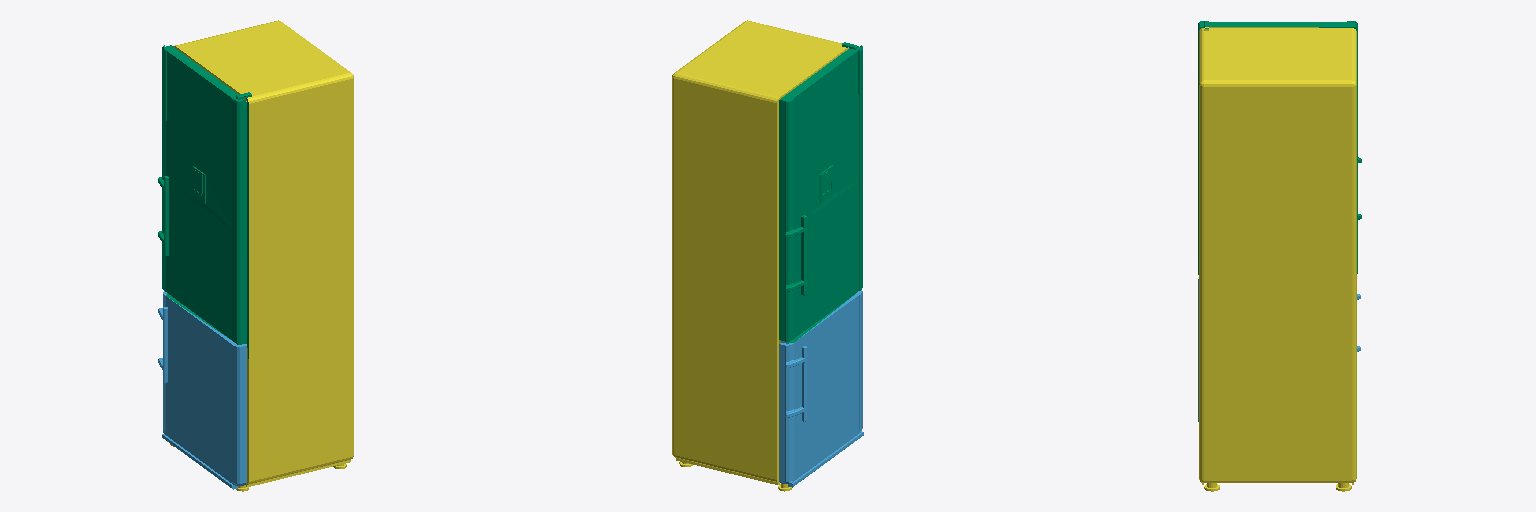
URDF robot description (partnet_37e4e31465ab231e657fedbea3770934):
<?xml version="1.0" ?>
<robot name="partnet_37e4e31465ab231e657fedbea3770934">
	<link name="base"/>
	<link name="link_0">
		<visual name="door_frame-10">
			<origin xyz="-0.31494556799530987 0 -0.27021547079086305"/>
			<geometry>
				<mesh filename="package://objects_description/10347/textured_objs/new-2.obj"/>
			</geometry>
		</visual>
		<visual name="door_frame-10">
			<origin xyz="-0.31494556799530987 0 -0.27021547079086305"/>10347
			<geometry>
				<mesh filename="package://objects_description/10347/textured_objs/new-5.obj"/>
			</geometry>
		</visual>
		<visual name="handle-11">
			<origin xyz="-0.31494556799530987 0 -0.27021547079086305"/>
			<geometry>
				<mesh filename="package://objects_description/10347/textured_objs/new-0.obj"/>
			</geometry>
		</visual>
		<collision>
			<origin xyz="-0.31494556799530987 0 -0.27021547079086305"/>
			<geometry>
				<mesh filename="package://objects_description/10347/textured_objs/new-2.obj"/>
			</geometry>
		</collision>
		<collision>
			<origin xyz="-0.31494556799530987 0 -0.27021547079086305"/>
			<geometry>
				<mesh filename="package://objects_description/10347/textured_objs/new-5.obj"/>
			</geometry>
		</collision>
		<collision>
			<origin xyz="-0.31494556799530987 0 -0.27021547079086305"/>
			<geometry>
				<mesh filename="package://objects_description/10347/textured_objs/new-0.obj"/>
			</geometry>
		</collision>
	</link>
	<joint name="joint_0" type="revolute">
		<origin xyz="0.31494556799530987 0 0.27021547079086305"/>
		<axis xyz="0 1 0"/>
		<child link="link_0"/>
		<parent link="link_2"/>
		<limit lower="0.0" upper="3.141592653589793"/>
	</joint>
	<link name="link_1">
		<visual name="door_frame-13">
			<origin xyz="-0.3084289085206536 -0.9348190000000001 -0.26709179782210213"/>
			<geometry>
				<mesh filename="package://objects_description/10347/textured_objs/new-3.obj"/>
			</geometry>
		</visual>
		<visual name="handle-14">
			<origin xyz="-0.3084289085206536 -0.9348190000000001 -0.26709179782210213"/>
			<geometry>
				<mesh filename="package://objects_description/10347/textured_objs/new-1.obj"/>
			</geometry>
		</visual>
		<collision>
			<origin xyz="-0.3084289085206536 -0.9348190000000001 -0.26709179782210213"/>
			<geometry>
				<mesh filename="package://objects_description/10347/textured_objs/new-3.obj"/>
			</geometry>
		</collision>
		<collision>
			<origin xyz="-0.3084289085206536 -0.9348190000000001 -0.26709179782210213"/>
			<geometry>
				<mesh filename="package://objects_description/10347/textured_objs/new-1.obj"/>
			</geometry>
		</collision>
	</link>
	<joint name="joint_1" type="revolute">
		<origin xyz="0.3084289085206536 0.9348190000000001 0.26709179782210213"/>
		<axis xyz="0 1 0"/>
		<child link="link_1"/>
		<parent link="link_2"/>
		<limit lower="-0.0" upper="3.141592653589793"/>
	</joint>
	<link name="link_2">
		<visual name="frame-8">
			<origin xyz="0 0 0"/>
			<geometry>
				<mesh filename="package://objects_description/10347/textured_objs/new-4.obj"/>
			</geometry>
		</visual>
		<visual name="foot-4">
			<origin xyz="0 0 0"/>
			<geometry>
				<mesh filename="package://objects_description/10347/textured_objs/original-7.obj"/>
			</geometry>
		</visual>
		<visual name="foot-4">
			<origin xyz="0 0 0"/>
			<geometry>
				<mesh filename="package://objects_description/10347/textured_objs/original-6.obj"/>
			</geometry>
		</visual>
		<visual name="foot-5">
			<origin xyz="0 0 0"/>
			<geometry>
				<mesh filename="package://objects_description/10347/textured_objs/original-9.obj"/>
			</geometry>
		</visual>
		<visual name="foot-5">
			<origin xyz="0 0 0"/>
			<geometry>
				<mesh filename="package://objects_description/10347/textured_objs/original-10.obj"/>
			</geometry>
		</visual>
		<visual name="foot-6">
			<origin xyz="0 0 0"/>
			<geometry>
				<mesh filename="package://objects_description/10347/textured_objs/original-13.obj"/>
			</geometry>
		</visual>
		<visual name="foot-6">
			<origin xyz="0 0 0"/>
			<geometry>
				<mesh filename="package://objects_description/10347/textured_objs/original-12.obj"/>
			</geometry>
		</visual>
		<visual name="foot-7">
			<origin xyz="0 0 0"/>
			<geometry>
				<mesh filename="package://objects_description/10347/textured_objs/original-3.obj"/>
			</geometry>
		</visual>
		<visual name="foot-7">
			<origin xyz="0 0 0"/>
			<geometry>
				<mesh filename="package://objects_description/10347/textured_objs/original-4.obj"/>
			</geometry>
		</visual>
		<collision>
			<origin xyz="0 0 0"/>
			<geometry>
				<mesh filename="package://objects_description/10347/textured_objs/new-4.obj"/>
			</geometry>
		</collision>
		<collision>
			<origin xyz="0 0 0"/>
			<geometry>
				<mesh filename="package://objects_description/10347/textured_objs/original-7.obj"/>
			</geometry>
		</collision>
		<collision>
			<origin xyz="0 0 0"/>
			<geometry>
				<mesh filename="package://objects_description/10347/textured_objs/original-6.obj"/>
			</geometry>
		</collision>
		<collision>
			<origin xyz="0 0 0"/>
			<geometry>
				<mesh filename="package://objects_description/10347/textured_objs/original-9.obj"/>
			</geometry>
		</collision>
		<collision>
			<origin xyz="0 0 0"/>
			<geometry>
				<mesh filename="package://objects_description/10347/textured_objs/original-10.obj"/>
			</geometry>
		</collision>
		<collision>
			<origin xyz="0 0 0"/>
			<geometry>
				<mesh filename="package://objects_description/10347/textured_objs/original-13.obj"/>
			</geometry>
		</collision>
		<collision>
			<origin xyz="0 0 0"/>
			<geometry>
				<mesh filename="package://objects_description/10347/textured_objs/original-12.obj"/>
			</geometry>
		</collision>
		<collision>
			<origin xyz="0 0 0"/>
			<geometry>
				<mesh filename="package://objects_description/10347/textured_objs/original-3.obj"/>
			</geometry>
		</collision>
		<collision>
			<origin xyz="0 0 0"/>
			<geometry>
				<mesh filename="package://objects_description/10347/textured_objs/original-4.obj"/>
			</geometry>
		</collision>
	</link>
	<joint name="joint_2" type="fixed">
		<origin rpy="1.570796326794897 0 -1.570796326794897" xyz="0 0 0"/>
		<child link="link_2"/>
		<parent link="base"/>
	</joint>
</robot>

--- Facts derived from the render (not from the file) ---
3 views of the same robot in one strip: view 1: azimuth 30°, elevation 25°; view 2: azimuth 150°, elevation 25°; view 3: azimuth 270°, elevation 25° (orthographic).
Model partnet_37e4e31465ab231e657fedbea3770934 with 4 links and 3 joints (2 revolute, 1 fixed), rooted at base, posed all joints at 0.
Visible links, largest first — view 1: link_2, link_1, link_0; view 2: link_2, link_1, link_0; view 3: link_2, link_1.
Link boxes in pixels (box(x1,y1,x2,y2)): link_2: box(170, 20, 353, 491); link_1: box(158, 45, 251, 358); link_0: box(158, 291, 246, 489); link_2: box(672, 20, 848, 491); link_1: box(779, 42, 862, 343); link_0: box(779, 290, 863, 487); link_2: box(1199, 27, 1356, 491); link_1: box(1198, 21, 1361, 274).
Size in the robot's own frame: 0.6231 by 0.668 by 1.87 metres.
14 mesh visuals loaded from 14 distinct referenced files (14 OBJ).